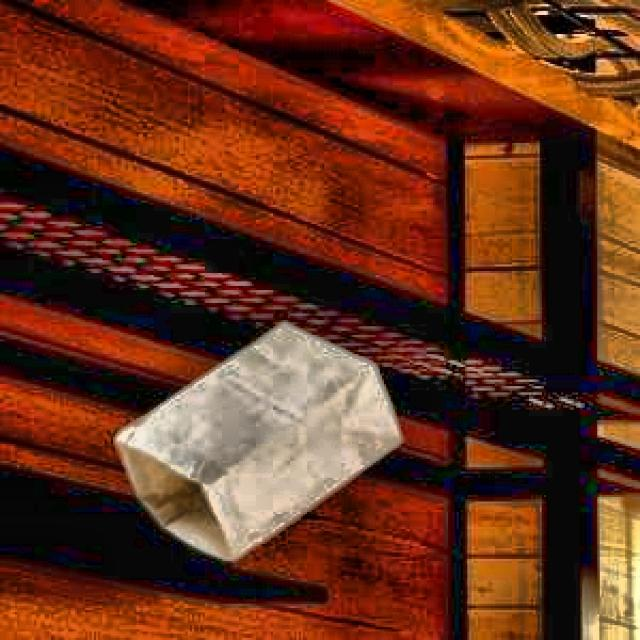Paper-bag: (105, 310, 412, 574)
